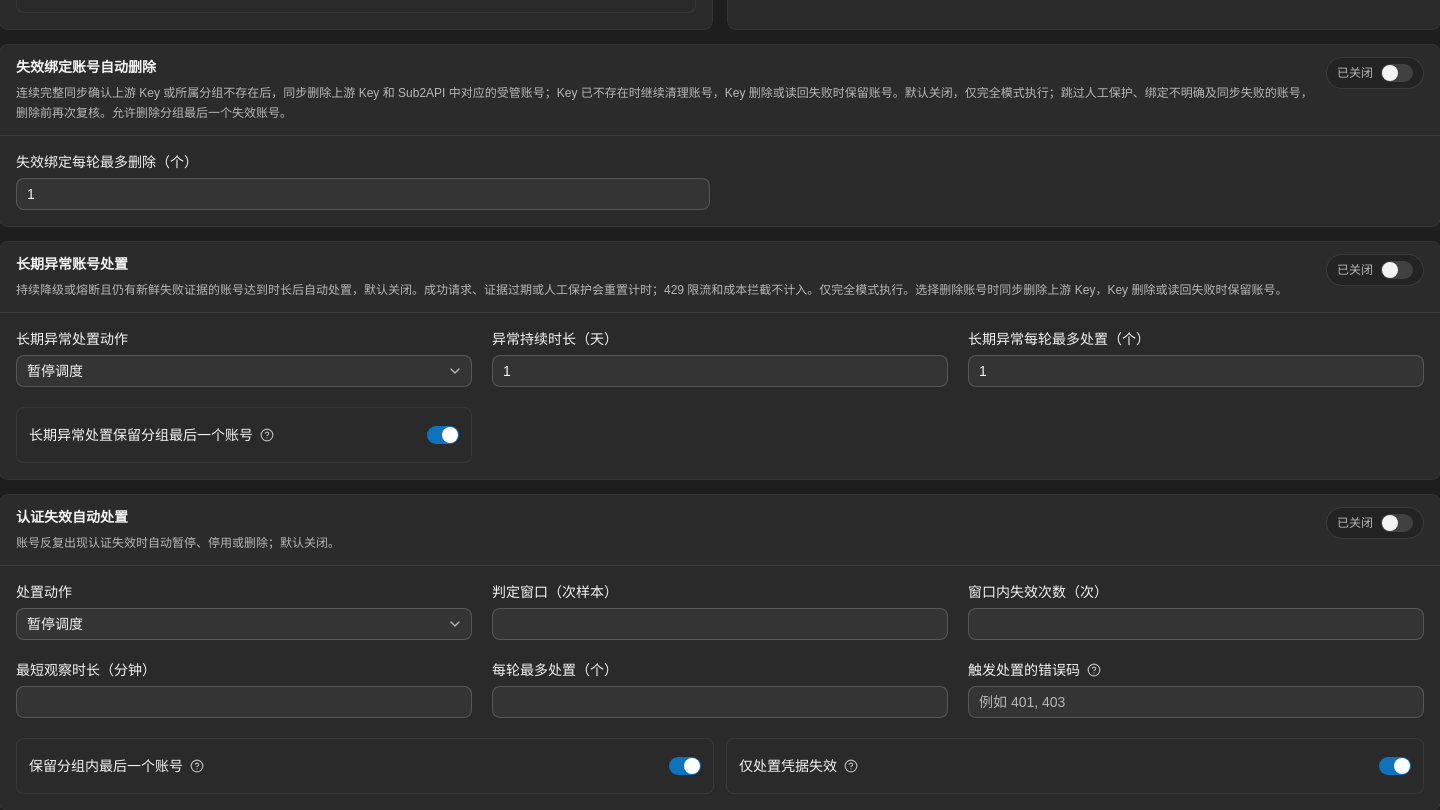
Test: 认证失效处置动作 › 点击选择 delete 时回显 删除账号，并将协议值写入草稿
The width and height of the screenshot is (1440, 810).
(page scrolled)
Click the dropdown named "处置动作" at (55, 624), box [16,608,472,640]
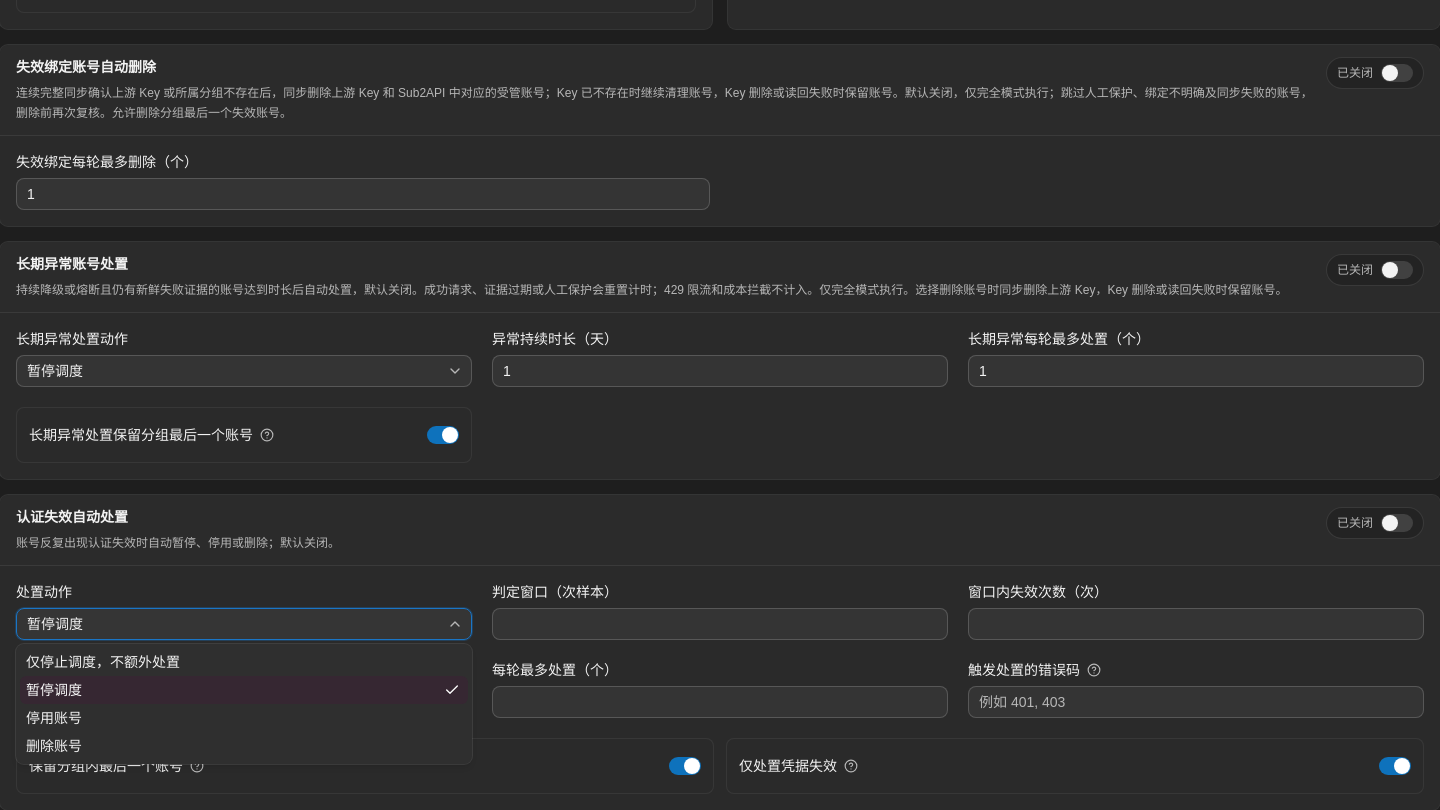
expect the dropdown named "处置动作" is expanded: met, box [16,608,472,640]
Click the option "删除账号" at (54, 746), box [26,738,82,754]
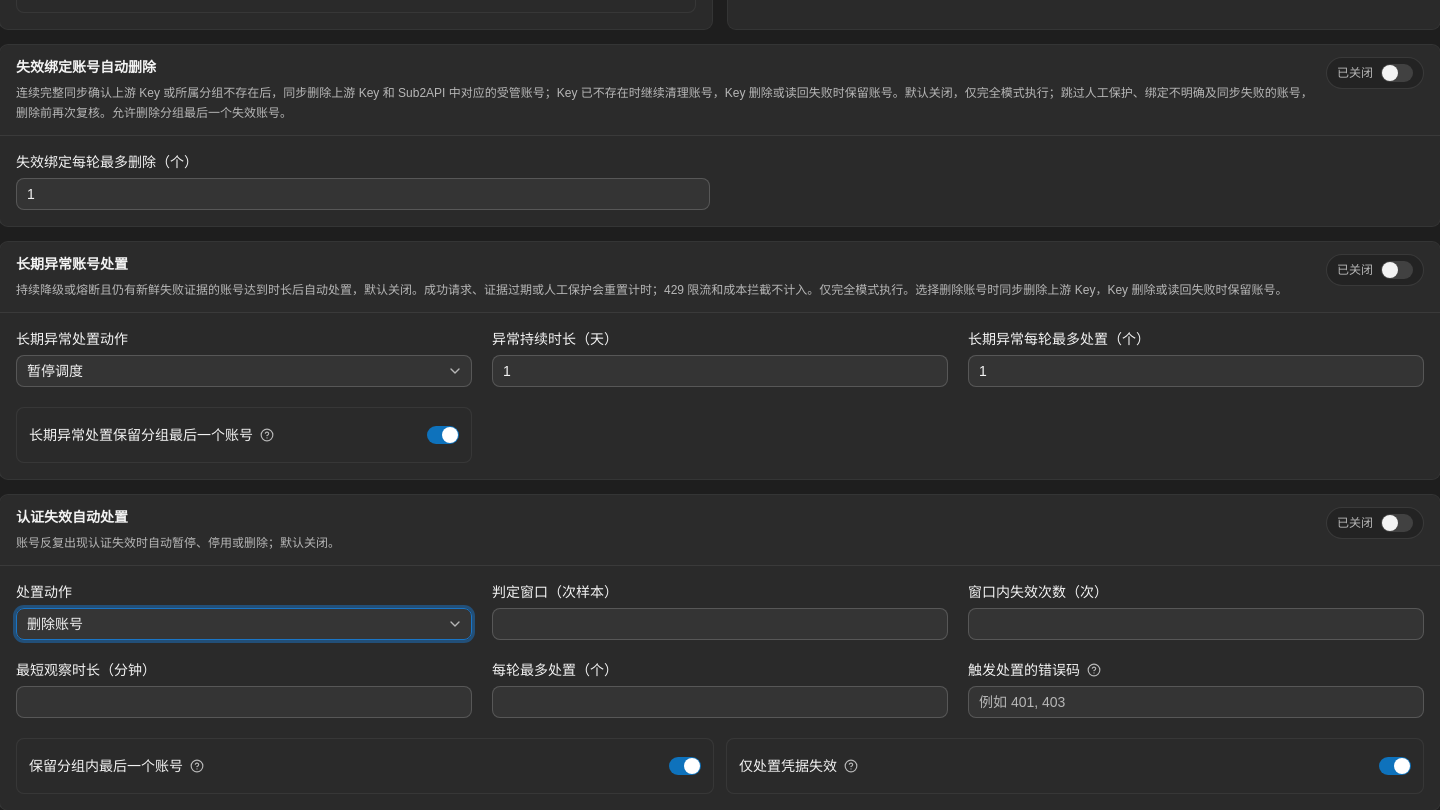
expect the dropdown named "处置动作" shows "删除账号": met, box [16,608,472,640]
expect the dropdown named "处置动作" is collapsed: met, box [16,608,472,640]
